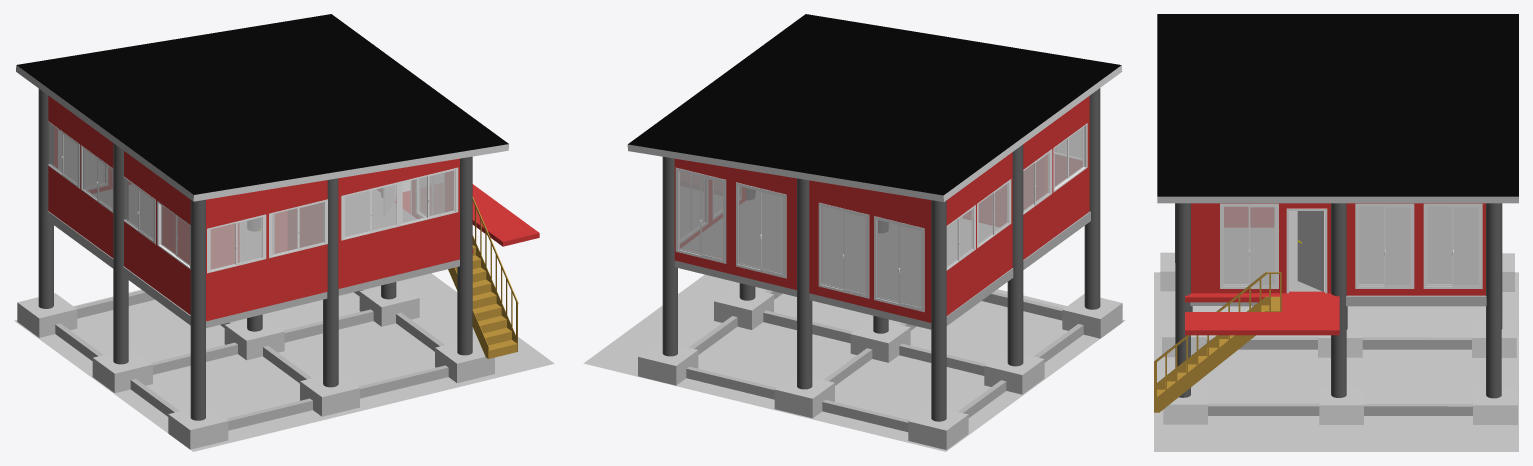
The model's file is casa_7mx7mvintage_modificado.glb.
The picture shows the model from 3 angles, left to right: view 1: azimuth 30°, elevation 25°; view 2: azimuth 150°, elevation 25°; view 3: azimuth 270°, elevation 25°; orthographic projection.
Parts seen in each view (by area): view 1: Casa_7mx7m_3,5m_vigamento_detalhado_com_teto_vazioobjcleaner; view 2: Casa_7mx7m_3,5m_vigamento_detalhado_com_teto_vazioobjcleaner; view 3: Casa_7mx7m_3,5m_vigamento_detalhado_com_teto_vazioobjcleaner.
Boxes of the visible parts, bbox=[...] form: Casa_7mx7m_3,5m_vigamento_detalhado_com_teto_vazioobjcleaner: bbox=[14, 14, 554, 451]; Casa_7mx7m_3,5m_vigamento_detalhado_com_teto_vazioobjcleaner: bbox=[583, 14, 1125, 451]; Casa_7mx7m_3,5m_vigamento_detalhado_com_teto_vazioobjcleaner: bbox=[1154, 14, 1518, 451].
Size of the model in its own units: 47.47 by 32.02 by 40.77.
